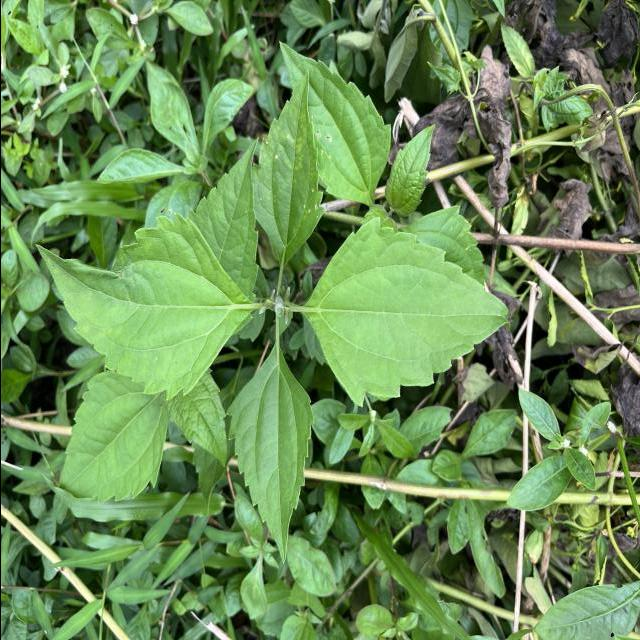Chromolaena odorata: (29, 209, 256, 404), (301, 212, 513, 410), (223, 341, 317, 568)
